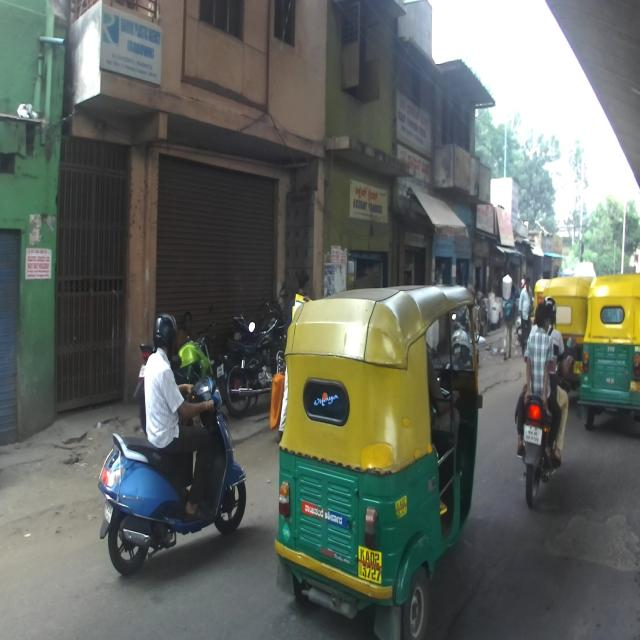autorickshaw: (274, 284, 487, 640), (576, 272, 640, 430), (547, 275, 596, 395), (534, 278, 552, 325)
motorcycle: (132, 302, 216, 438), (516, 336, 576, 508), (215, 294, 288, 418), (232, 281, 288, 345)
scooter: (98, 364, 246, 575)
